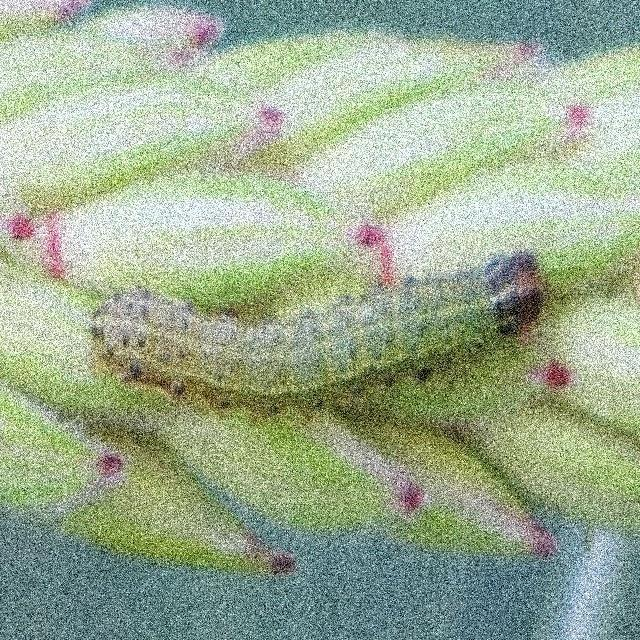gusano_cogollero: (95, 248, 542, 404)
